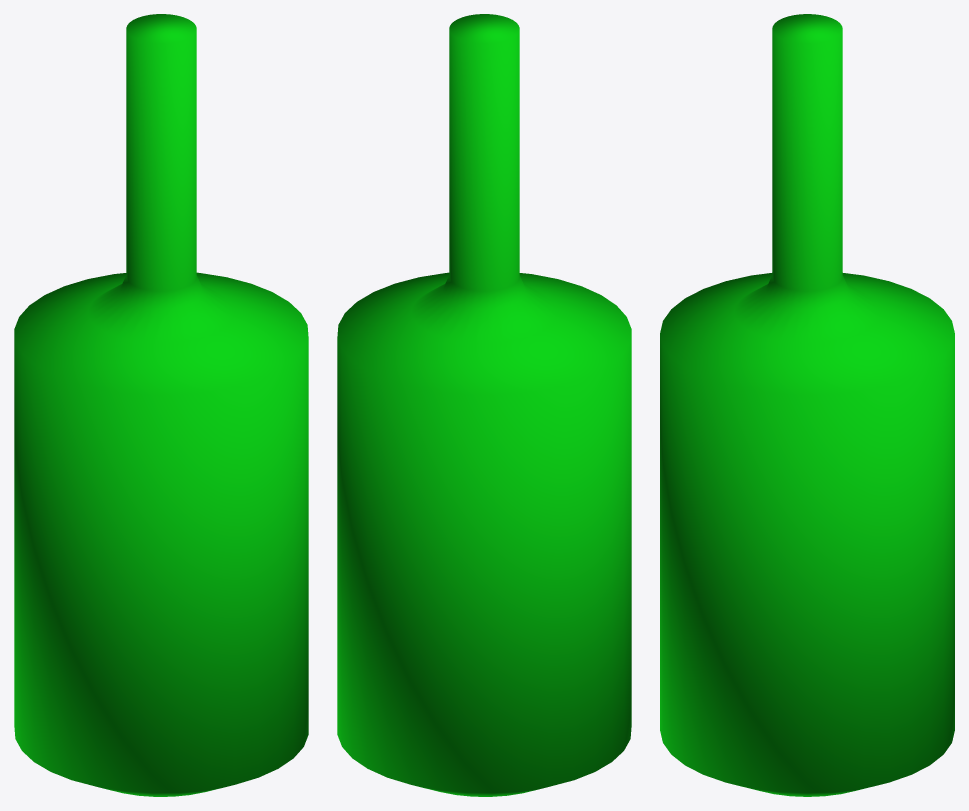
Rendered from Wine_bottle_2.fbx.
3 views of the same model, side by side, from view 1: azimuth 30°, elevation 25°; view 2: azimuth 150°, elevation 25°; view 3: azimuth 270°, elevation 25° (orthographic).
Visible parts, largest first — view 1: Cylinder.002; view 2: Cylinder.002; view 3: Cylinder.002.
Boxes of the visible parts, x1,y1,x2,y2 form: Cylinder.002: (14, 14, 308, 796); Cylinder.002: (337, 14, 631, 796); Cylinder.002: (660, 14, 954, 796).
Size of the model in its own units: 22.86 by 63.83 by 22.86.
